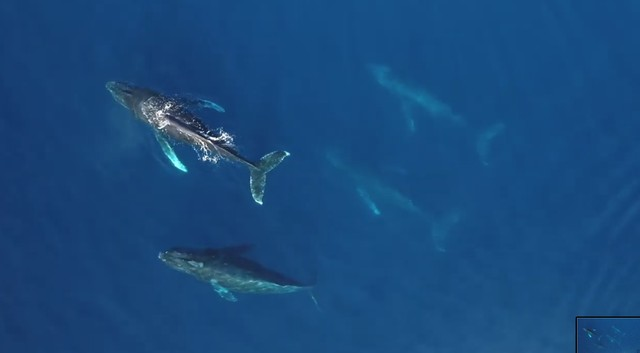whale: (94, 71, 297, 216), (305, 134, 475, 263), (353, 52, 514, 172), (149, 234, 336, 317)
